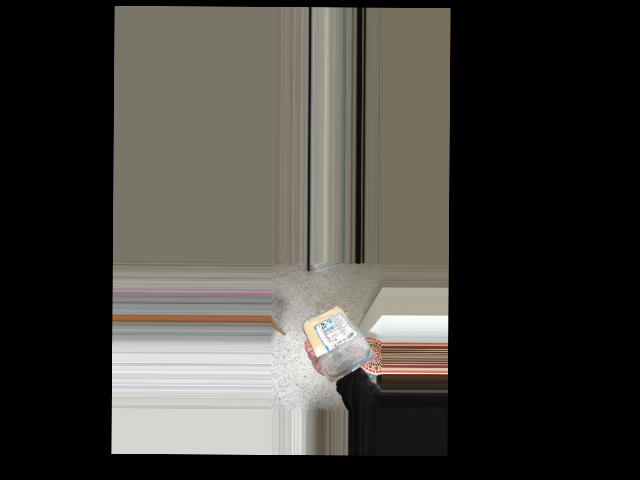cheese: (309, 300, 373, 377)
